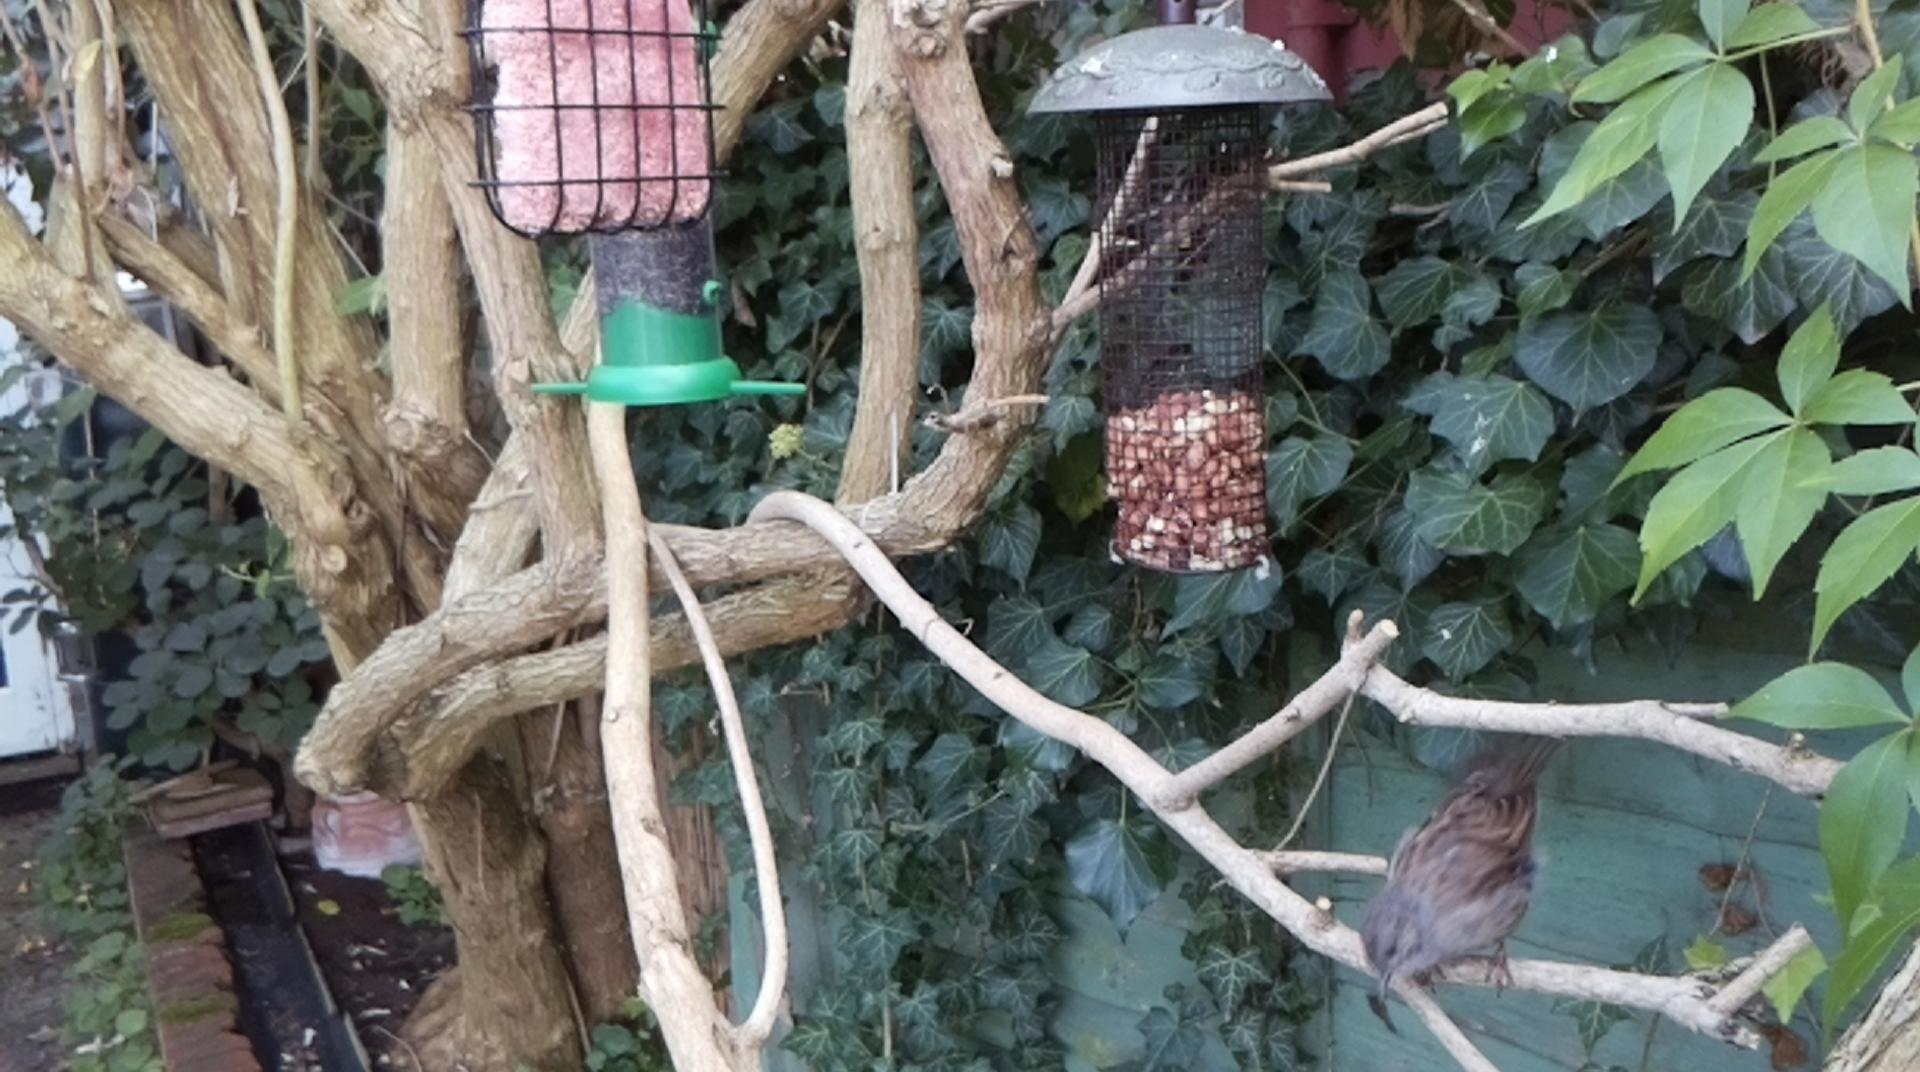dunnock: (1358, 733, 1569, 1001)
